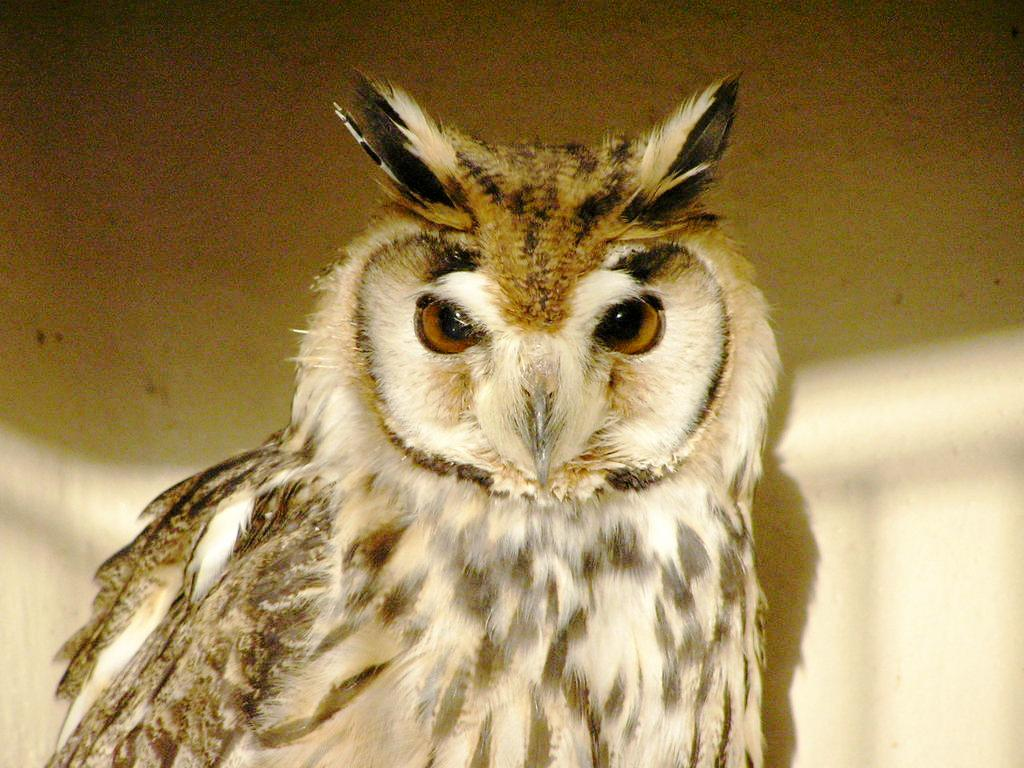Owl: (40, 61, 783, 768)
